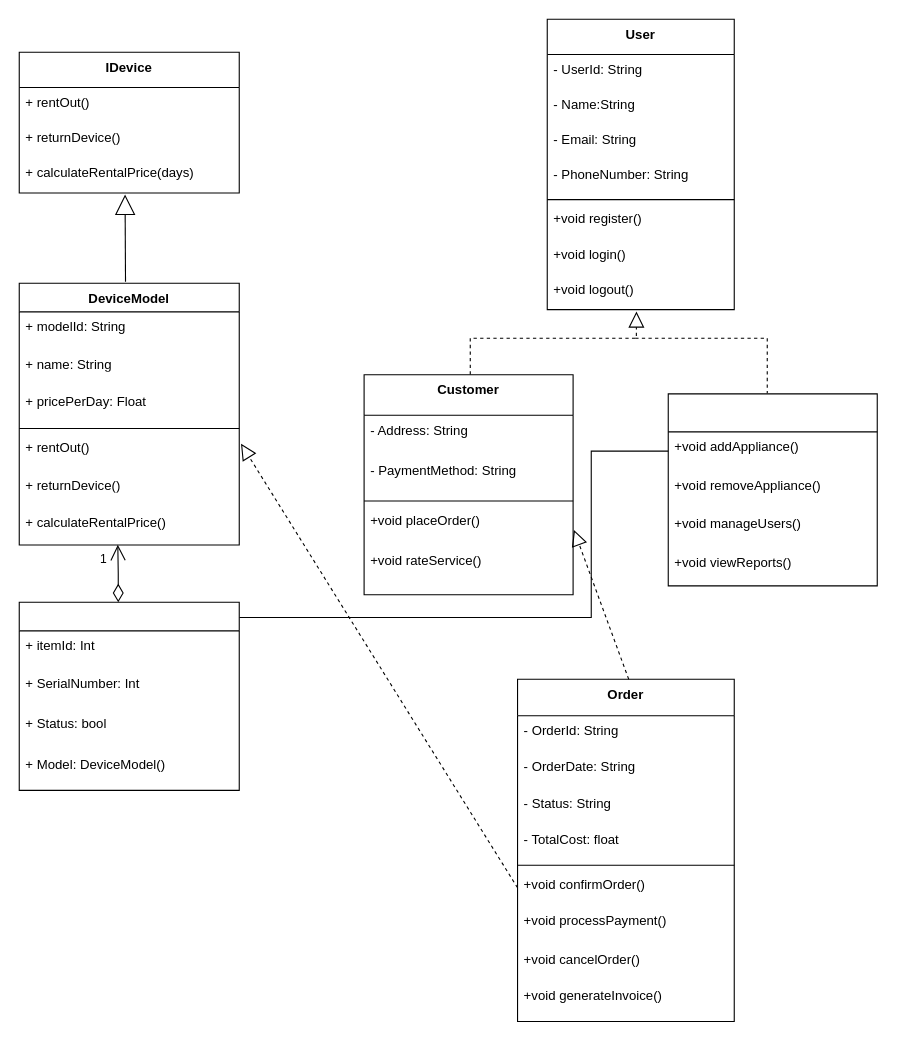
The diagram is 897 pixels wide and 1044 high, and some of its shapes have lost their labels. Here are the shapes that lost their labels. From the top down, the box of each, then its label:
(667, 393, 877, 586): Admin
(18, 601, 239, 790): DeviceItem
